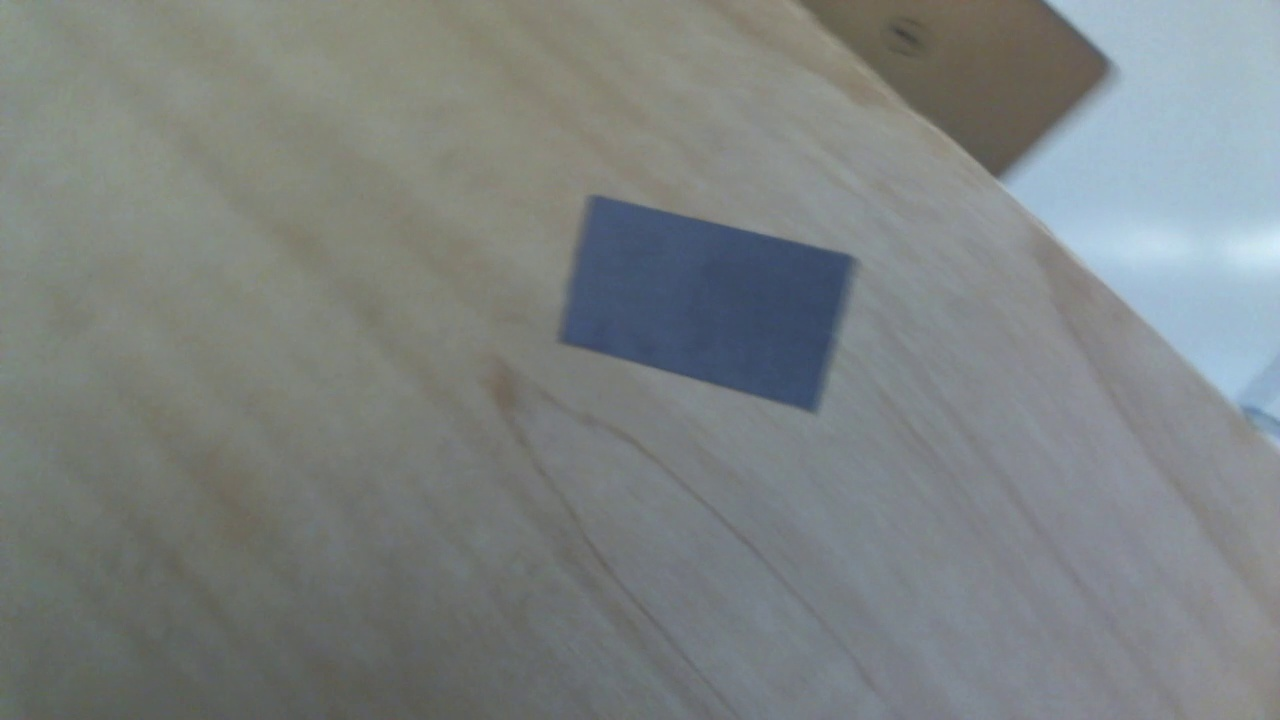Tape: (555, 196, 858, 414)
